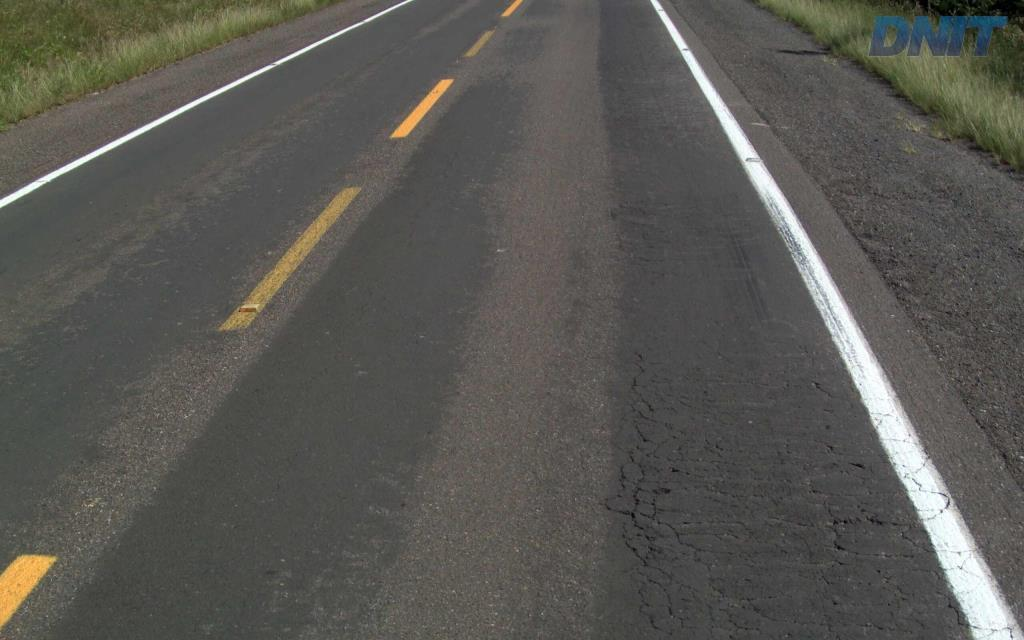crack: (613, 481, 663, 567)
